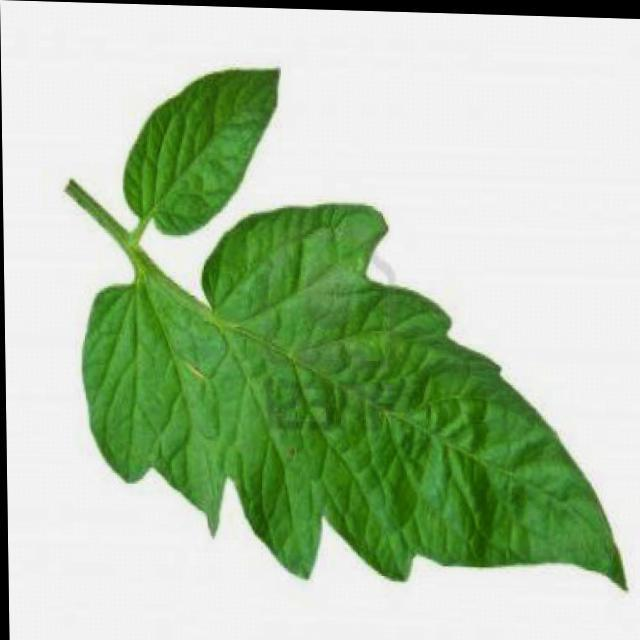Tomato bacterial spot leaf: (46, 191, 639, 620), (119, 36, 306, 239)
